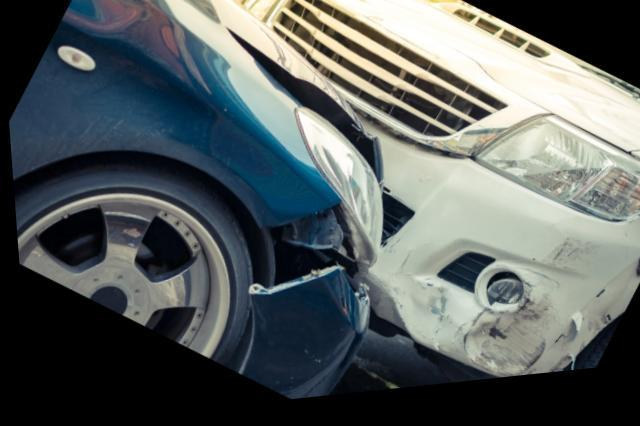dent: (395, 290, 540, 387)
dislocated part: (231, 212, 366, 405)
scratch: (538, 248, 595, 282)
